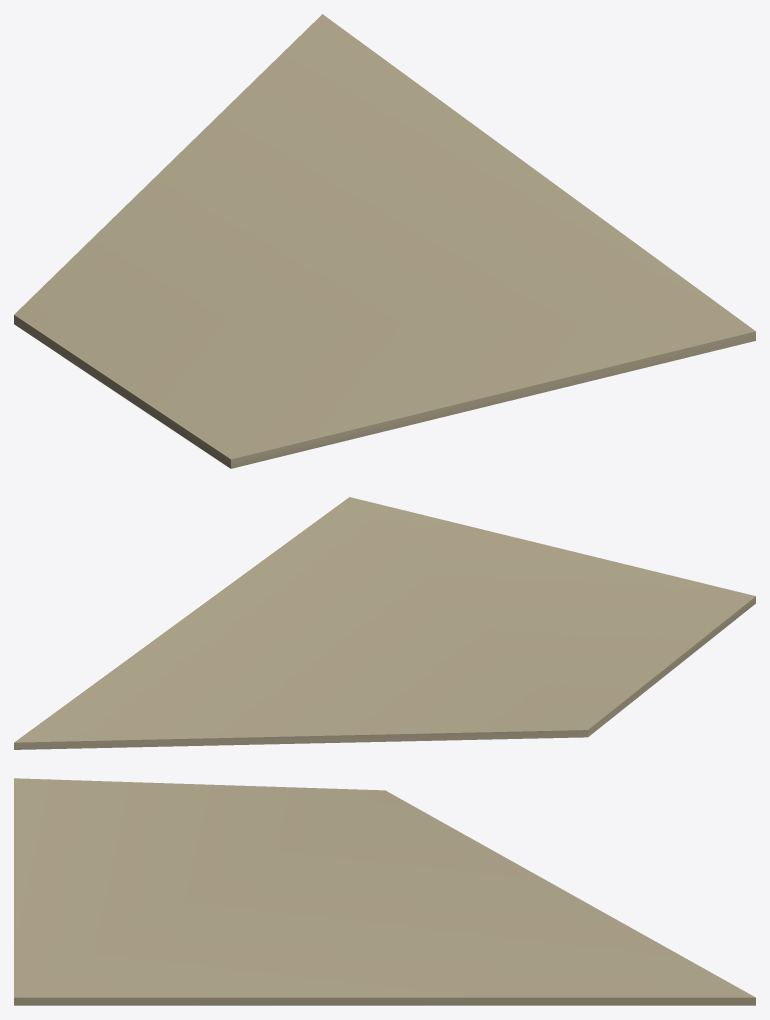
Rendered from breach_wedge_b_14x10.glb.
3 views of the same model, one above another, from view 1: azimuth 30°, elevation 25°; view 2: azimuth 150°, elevation 25°; view 3: azimuth 270°, elevation 25° (orthographic). The views are drawn at different scales.
Visible parts, largest first — view 1: WedgeB; view 2: WedgeB; view 3: WedgeB.
Boxes of the visible parts, x1,y1,x2,y2 form: WedgeB: (14, 14, 755, 468); WedgeB: (14, 497, 755, 749); WedgeB: (14, 778, 755, 1005).
Size of the model in its own units: 6.95 by 0.2987 by 9.94.
